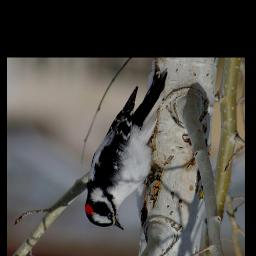Woodpecker: (86, 67, 169, 232)
